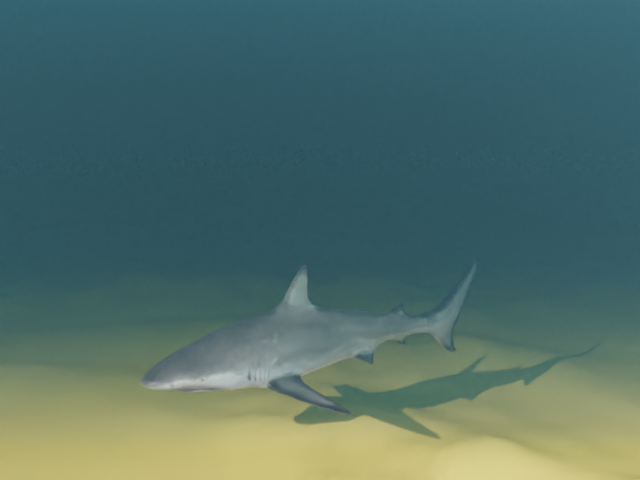Carribean Shark.001: (140, 254, 478, 414)
